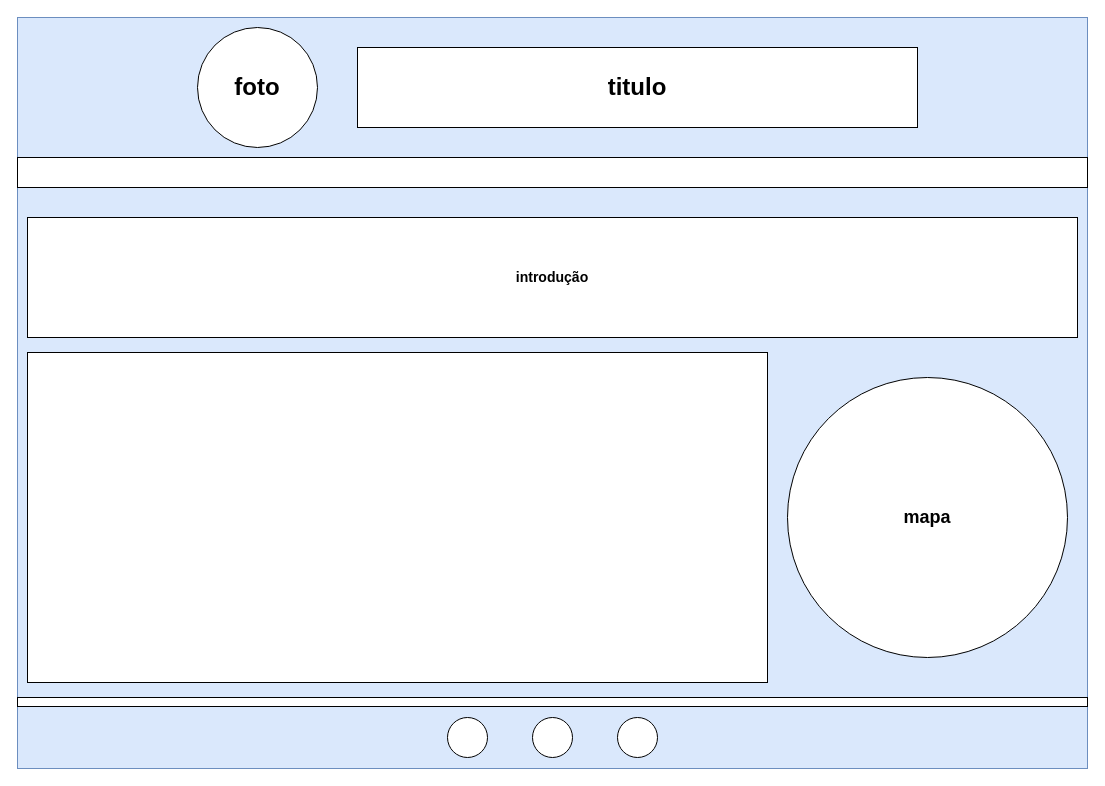
Some shapes in this 1105 by 786 pixel diagram are drawn without their labels. The shapes that lost their labels are listed below. From the top down, each one's centre as x and y in pixels, then its label:
At point 552,172: "menu".
At point 397,517: "dados".
